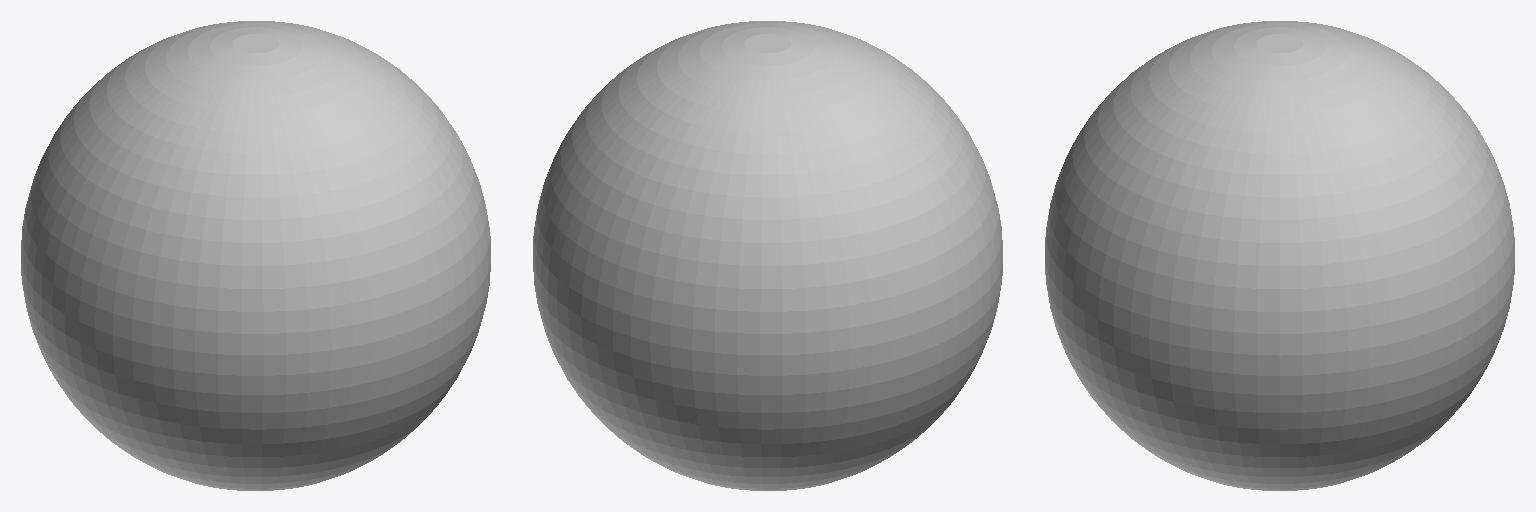
Rendered from ball13.obj.
The picture shows the model from 3 angles: view 1: azimuth 30°, elevation 25°; view 2: azimuth 150°, elevation 25°; view 3: azimuth 270°, elevation 25°; orthographic projection.
Parts seen in each view (by area): view 1: planet_Sphere.010; view 2: planet_Sphere.010; view 3: planet_Sphere.010.
Part boxes in pixels (left/top/right/bottom): planet_Sphere.010: left=21, top=21, right=490, bottom=490; planet_Sphere.010: left=533, top=21, right=1002, bottom=490; planet_Sphere.010: left=1045, top=21, right=1514, bottom=490.
Bounding box in the file's own units: 0.2214 × 0.2204 × 0.2214.